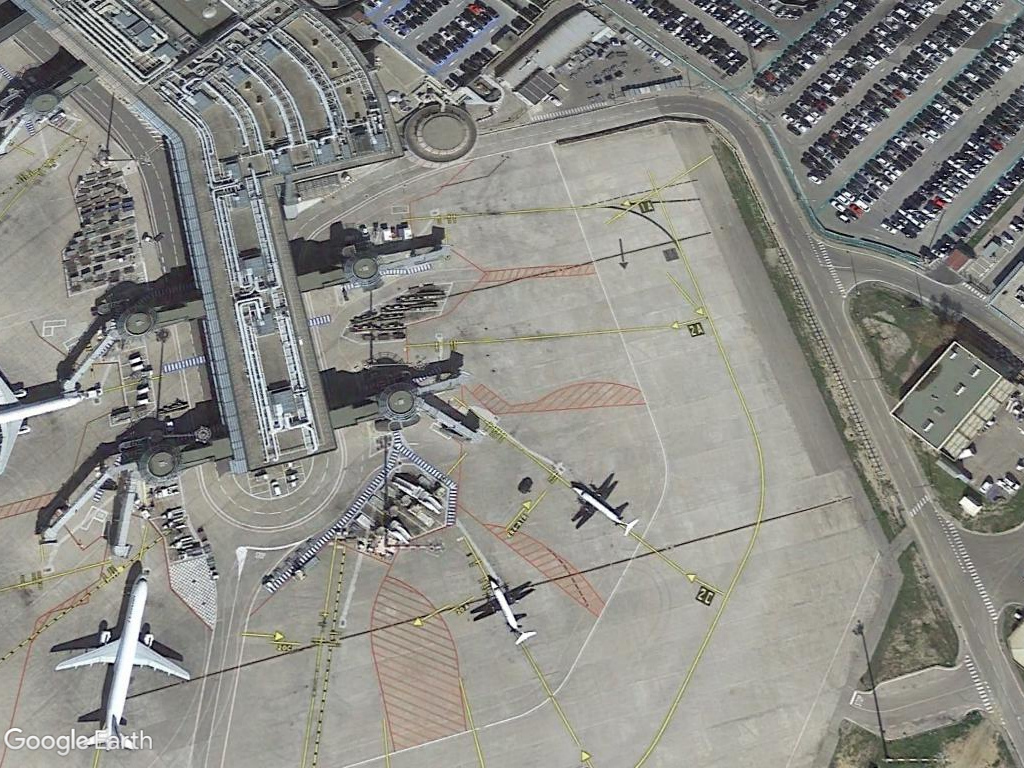airliner: (49, 567, 197, 750)
propeller: (472, 573, 543, 651), (567, 475, 643, 542)
